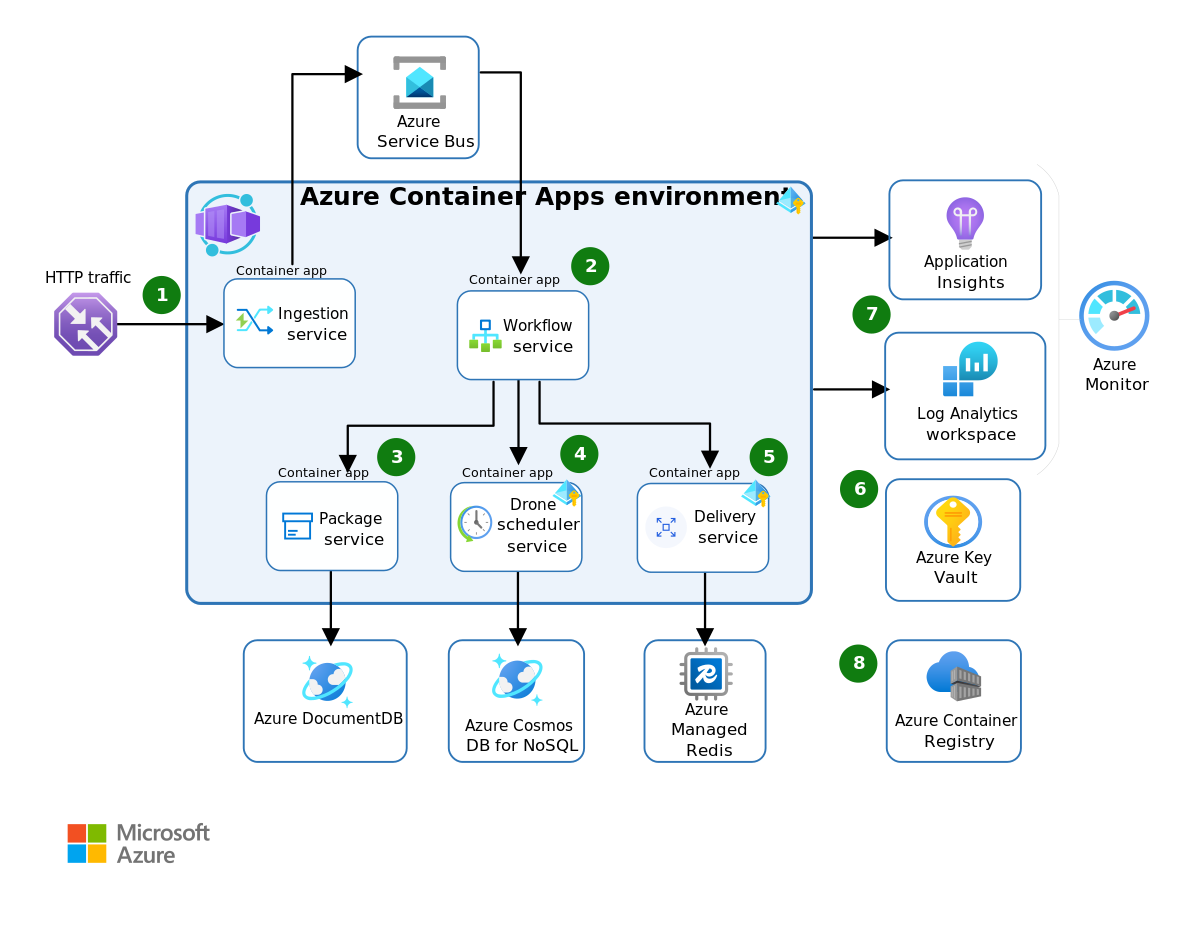container: (750, 732, 930, 844)
database_nosql: (210, 732, 390, 844), (510, 732, 690, 844)
logging: (948, 324, 1092, 417)
microservice: (528, 315, 672, 426), (228, 371, 372, 464), (288, 556, 432, 649), (528, 556, 672, 649), (768, 556, 912, 649)
monitoring: (948, 185, 1092, 278), (948, 742, 1092, 834)
queue: (510, 83, 690, 195)
secrets_manager: (948, 464, 1092, 556)
storage_object: (948, 603, 1092, 695)
user: (72, 426, 168, 501)
